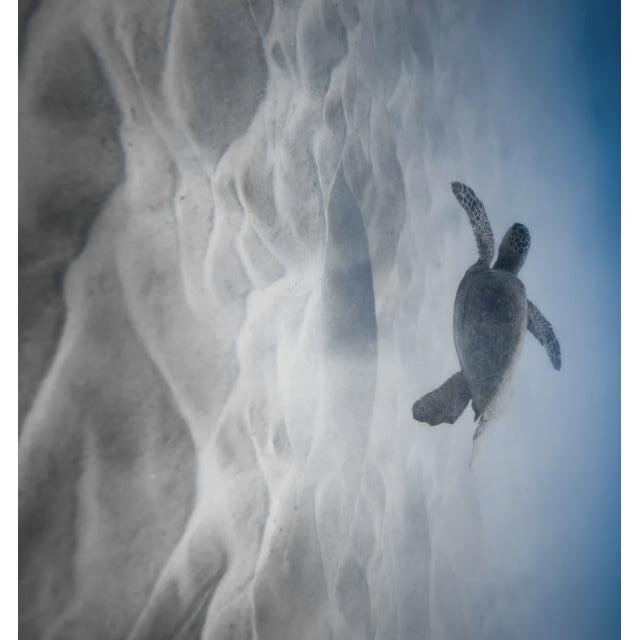turtle: (411, 179, 564, 469)
